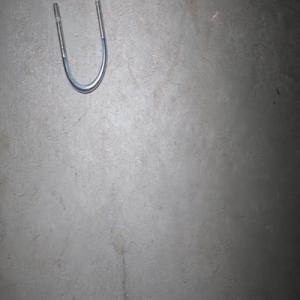ClampPart: (52, 0, 108, 94)
